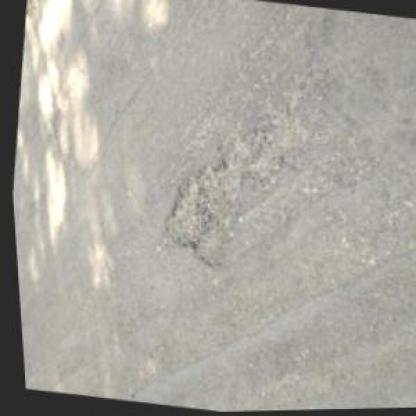pothole: (152, 148, 256, 274), (240, 94, 313, 192), (47, 91, 69, 136)
